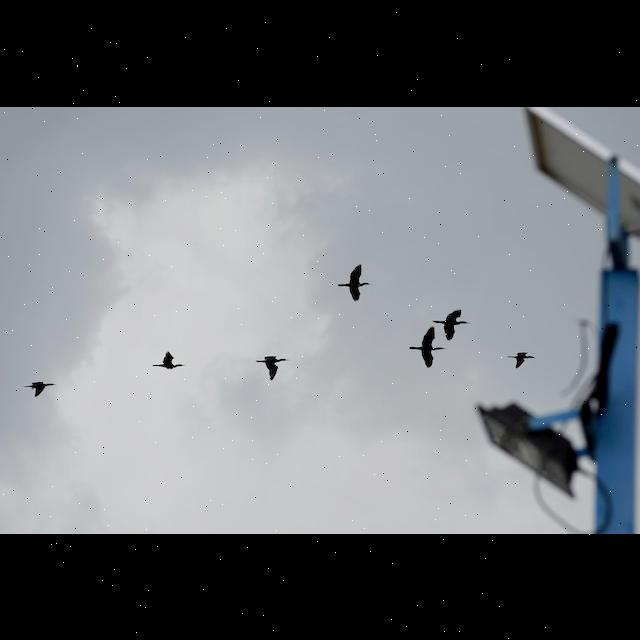cormorant: (432, 306, 474, 340), (338, 260, 372, 300), (257, 350, 291, 380), (504, 347, 540, 369), (153, 348, 189, 369), (25, 377, 55, 398)
